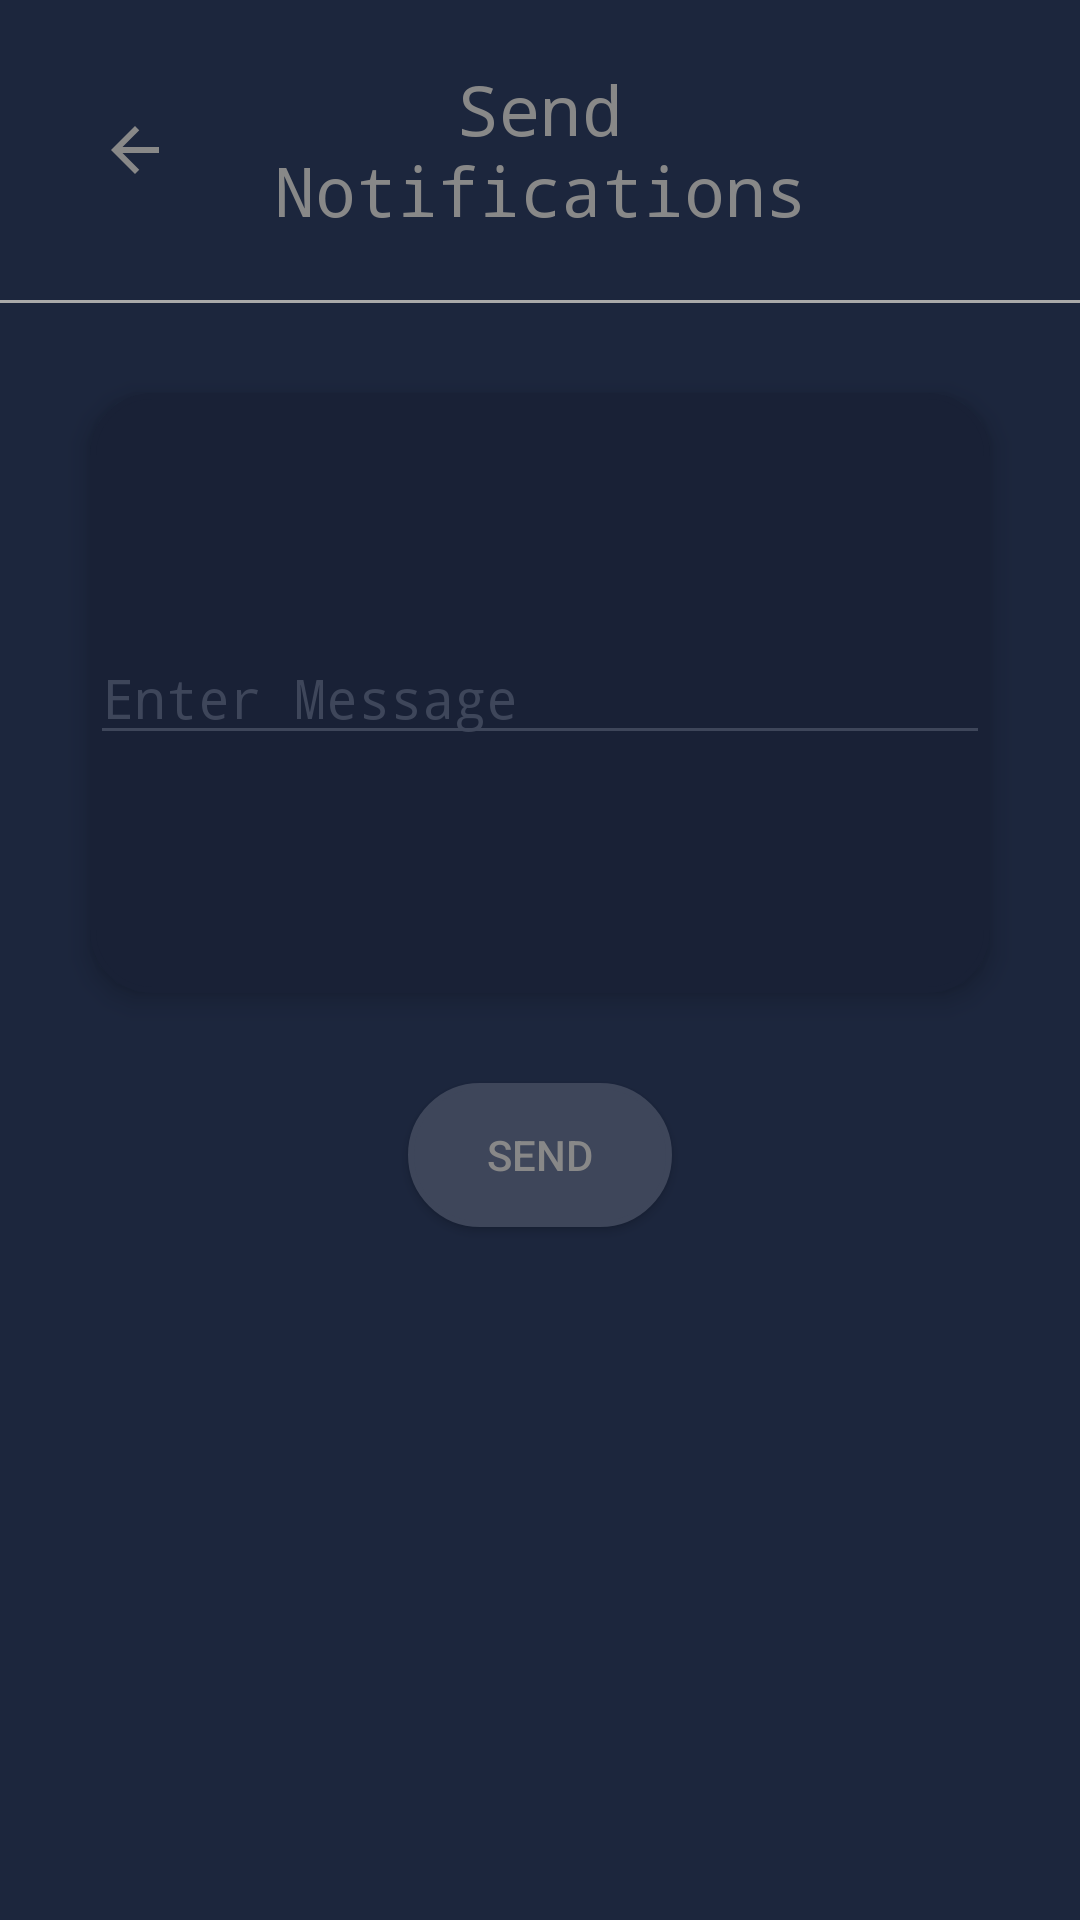

Icon bounding boxes for this 1080 x 1920 phone screenshot, format (left=x1, top=y1, right=x2, bottom=y2):
arrow back: (left=111, top=126, right=159, bottom=174)
